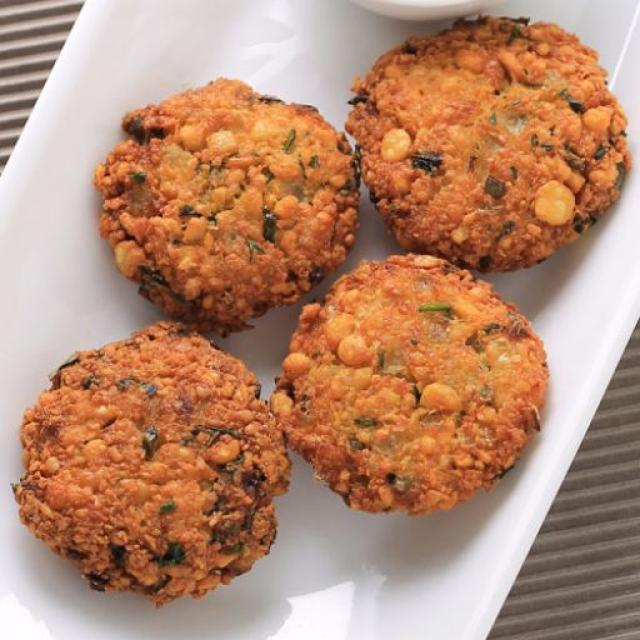dhal wade: (38, 344, 261, 572), (387, 41, 610, 248), (318, 286, 512, 481), (124, 103, 327, 281)
